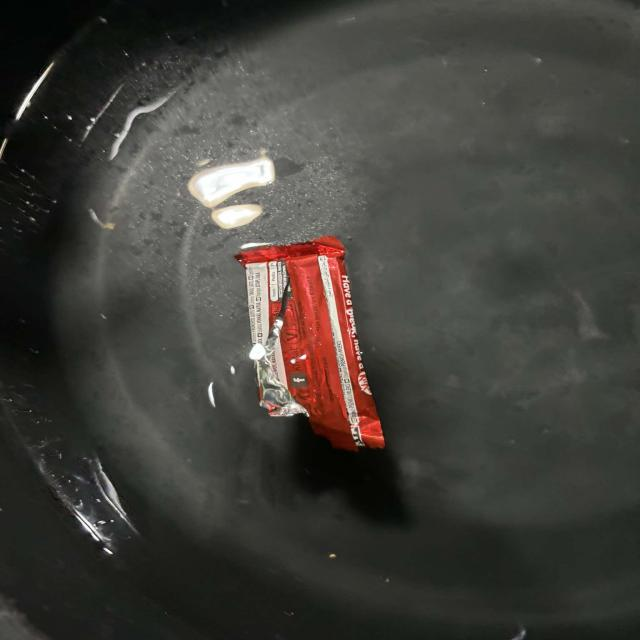Plastic Wrapper: (235, 236, 385, 452)
